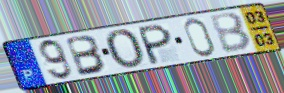0: (182, 16, 218, 59)
9: (38, 39, 75, 82)
B: (208, 11, 255, 55), (64, 34, 109, 78)
O: (104, 28, 148, 70)
P: (138, 22, 174, 66)
